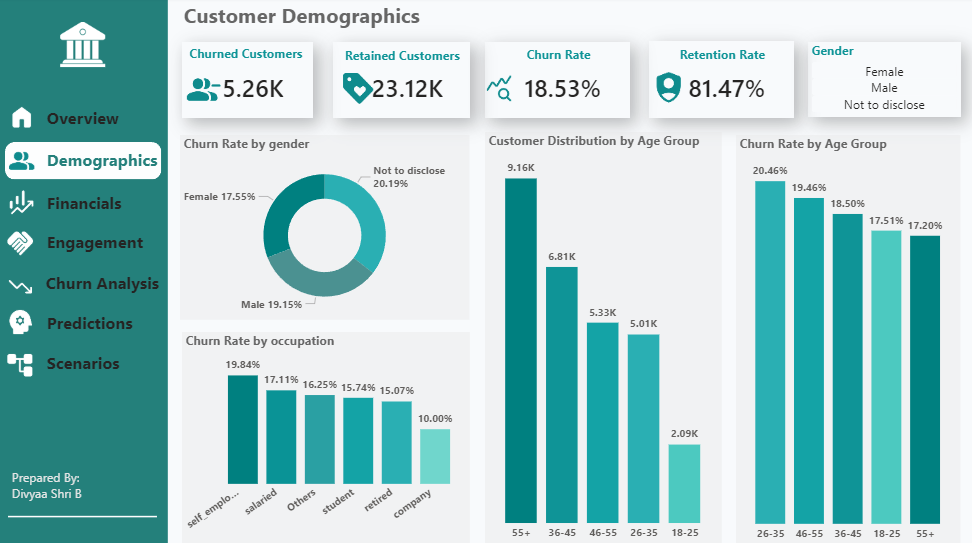

The dashboard page shown, as its layout file describes it:
{"tool":"powerbi","page":{"name":"Demographics","canvas":[1280,720],"ordinal":1},"visuals":[{"type":"shape","box":[0,0,220.6,720.4],"z":0},{"type":"textbox","box":[57.3,139.1,147.3,37.6],"z":1000},{"type":"shape","box":[8.2,189.9,204.6,49.1],"z":2000},{"type":"textbox","box":[57.2,194.1,163.5,43.9],"z":3000},{"type":"textbox","box":[57.2,249.9,163.5,43.9],"z":4000},{"type":"textbox","box":[56.2,354.2,164.2,43.2],"z":5000},{"type":"textbox","box":[57.6,459.4,162.7,46.1],"z":6000},{"type":"textbox","box":[57.6,407.5,162.7,41.8],"z":7000},{"type":"cardVisual","fields":{"Data":["churn_prediction.Churn Rate %"]},"box":[636.7,58.9,189.9,99.8],"z":8000},{"type":"cardVisual","fields":{"Data":["churn_prediction.Retention Rate %"]},"box":[851.2,57.3,189.9,101.5],"z":9000},{"type":"textbox","box":[237.6,0,426.2,50.4],"z":10000},{"type":"textbox","box":[673.6,59.4,117,35.9],"z":11000},{"type":"textbox","box":[863.6,59.4,166.1,35.9],"z":12000},{"type":"image","box":[851.8,94.8,49,47.5],"z":13000},{"type":"image","box":[8.6,404.6,37.4,41.8],"z":14000},{"type":"image","box":[7.2,459.4,38.9,44.6],"z":15000},{"type":"textbox","box":[12,612.8,196.7,59.8],"z":16000},{"type":"shape","box":[12,672.6,195.4,14.6],"z":17000},{"type":"image","box":[67.7,33.1,83.5,59],"z":18000},{"type":"image","box":[8.6,357.1,37.4,43.2],"z":19000},{"type":"image","box":[11.5,132.5,36,50.4],"z":20000},{"type":"image","box":[11.5,191.5,36,46.1],"z":21000},{"type":"image","box":[8.6,246.2,38.9,47.5],"z":22000},{"type":"image","box":[635.8,99.2,40.3,41.8],"z":23000},{"type":"cardVisual","fields":{"Data":["churn_prediction.Churned Customers"]},"box":[239,58.9,171.9,99.8],"z":24000},{"type":"textbox","box":[237,57.2,172.8,40.3],"z":25000},{"type":"cardVisual","fields":{"Data":["churn_prediction.Active Customers"]},"box":[437,58.9,180.1,99.8],"z":26000},{"type":"textbox","box":[437,60.6,181.7,37.6],"z":27000},{"type":"image","box":[443.5,95,53.3,47.5],"z":28000},{"type":"image","box":[237.6,97.9,61.9,44.6],"z":29000},{"type":"donutChart","fields":{"Category":["churn_prediction.gender"],"Y":["churn_prediction.Churn Rate %"]},"box":[237.6,180,378.7,241.9],"z":30000},{"type":"advancedSlicerVisual","fields":{"Values":["churn_prediction.gender"]},"box":[1058.4,59,200.2,97.9],"z":31000},{"type":"clusteredColumnChart","fields":{"Category":["churn_prediction.occupation"],"Y":["churn_prediction.Churn Rate %"]},"box":[239,439.2,377.3,280.8],"z":32000},{"type":"columnChart","fields":{"Category":["churn_prediction.Age Group"],"Y":["Count(churn_prediction.customer_id)"]},"box":[636.5,177.1,309.6,542.9],"z":33000},{"type":"columnChart","fields":{"Category":["churn_prediction.Age Group"],"Y":["churn_prediction.Churn Rate %"]},"box":[964.8,180,293.8,540],"z":34000},{"type":"actionButton","box":[56.2,138.2,154.1,40.3],"z":35000},{"type":"actionButton","box":[57.6,250.6,154.1,40.3],"z":36000},{"type":"actionButton","box":[60.5,354.2,154.1,40.3],"z":37000},{"type":"actionButton","box":[57.6,406.1,154.1,40.3],"z":38000},{"type":"actionButton","box":[60.5,459.4,154.1,40.3],"z":39000},{"type":"textbox","box":[57.6,301,152.6,43.2],"z":40000},{"type":"image","box":[7.2,301,40.3,43.2],"z":41000},{"type":"actionButton","box":[59,302.4,146.9,40.3],"z":42000}]}

Visuals, with their boxes in screenshot pixels (x1, y1, x2, y2), scaled from the page's 1280x720 canvas onto the 972x543 screenshot:
shape: BBox(0, 0, 168, 542)
textbox: BBox(44, 105, 155, 133)
shape: BBox(6, 143, 162, 180)
textbox: BBox(43, 146, 168, 179)
textbox: BBox(43, 188, 168, 222)
textbox: BBox(43, 267, 167, 300)
textbox: BBox(44, 346, 167, 381)
textbox: BBox(44, 307, 167, 339)
cardVisual - churn_prediction.Churn Rate %: BBox(483, 44, 628, 120)
cardVisual - churn_prediction.Retention Rate %: BBox(646, 43, 791, 120)
textbox: BBox(180, 0, 504, 38)
textbox: BBox(512, 45, 600, 72)
textbox: BBox(656, 45, 782, 72)
image: BBox(647, 71, 684, 107)
image: BBox(7, 305, 35, 337)
image: BBox(5, 346, 35, 380)
textbox: BBox(9, 462, 158, 507)
shape: BBox(9, 507, 157, 518)
image: BBox(51, 25, 115, 69)
image: BBox(7, 269, 35, 302)
image: BBox(9, 100, 36, 138)
image: BBox(9, 144, 36, 179)
image: BBox(7, 186, 36, 221)
image: BBox(483, 75, 513, 106)
cardVisual - churn_prediction.Churned Customers: BBox(181, 44, 312, 120)
textbox: BBox(180, 43, 311, 74)
cardVisual - churn_prediction.Active Customers: BBox(332, 44, 469, 120)
textbox: BBox(332, 46, 470, 74)
image: BBox(337, 72, 377, 107)
image: BBox(180, 74, 227, 107)
donutChart - churn_prediction.gender x churn_prediction.Churn Rate %: BBox(180, 136, 468, 318)
advancedSlicerVisual - churn_prediction.gender: BBox(804, 44, 956, 118)
clusteredColumnChart - churn_prediction.occupation x churn_prediction.Churn Rate %: BBox(181, 331, 468, 542)
columnChart - churn_prediction.Age Group x Count(churn_prediction.customer_id): BBox(483, 134, 718, 542)
columnChart - churn_prediction.Age Group x churn_prediction.Churn Rate %: BBox(733, 136, 956, 542)
actionButton: BBox(43, 104, 160, 135)
actionButton: BBox(44, 189, 161, 219)
actionButton: BBox(46, 267, 163, 298)
actionButton: BBox(44, 306, 161, 337)
actionButton: BBox(46, 346, 163, 377)
textbox: BBox(44, 227, 160, 260)
image: BBox(5, 227, 36, 260)
actionButton: BBox(45, 228, 156, 258)
